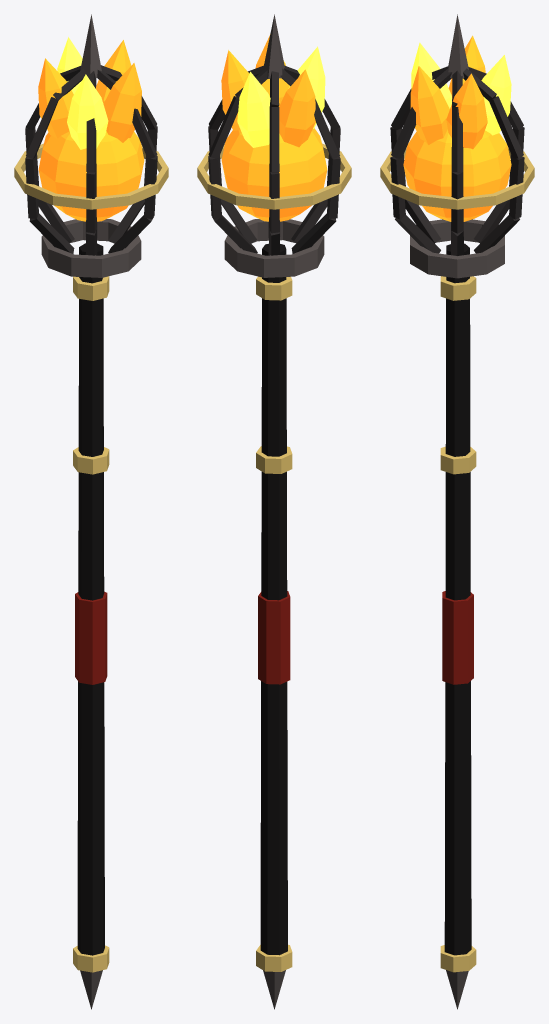
File: ember_cage_staff.glb
3 views of the same model, side by side, from view 1: azimuth 30°, elevation 25°; view 2: azimuth 150°, elevation 25°; view 3: azimuth 270°, elevation 25° (orthographic).
Parts seen in each view (by area): view 1: ember_cage_staff; view 2: ember_cage_staff; view 3: ember_cage_staff.
Part boxes in pixels (x1,y1,x2,y2): ember_cage_staff: [14, 14, 168, 1009]; ember_cage_staff: [197, 14, 351, 1009]; ember_cage_staff: [380, 14, 534, 1009].
Bounding box in the file's own units: 0.37 × 2.64 × 0.37.
